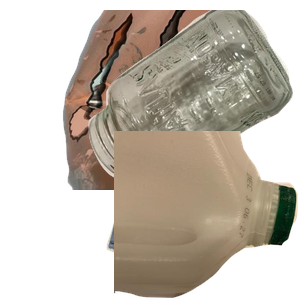glass: (86, 10, 300, 184)
metal: (60, 10, 300, 190)
plastic: (114, 131, 300, 300)
trash: (104, 152, 280, 300)
